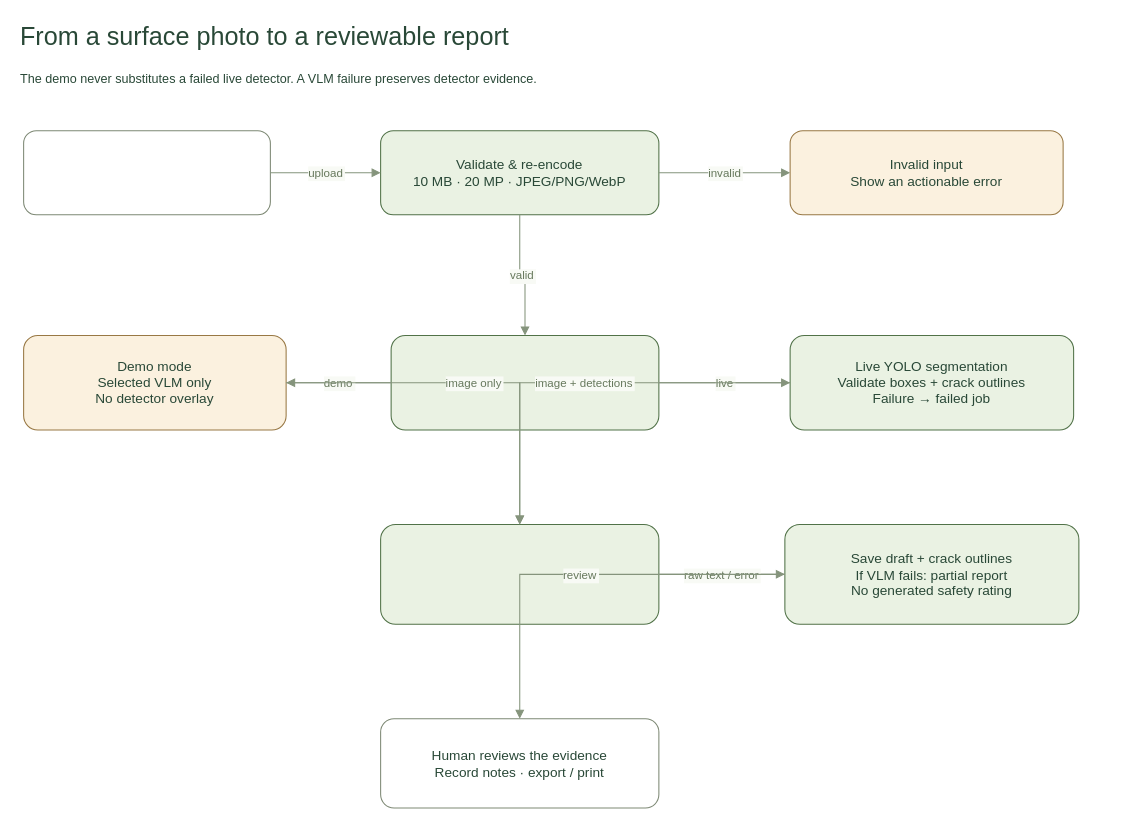
Image size: 1138x826. Some labels were removed from this diagram. The box of each missing label's shape, as (x1, y1, x2, y2) in pixels:
Choose or capture image Add name and location: (23, 130, 270, 215)
Local or VPS VLM observation Read actual image Live detections add context: (380, 523, 659, 624)
Select detector mode Save image + queue job: (390, 334, 659, 430)
